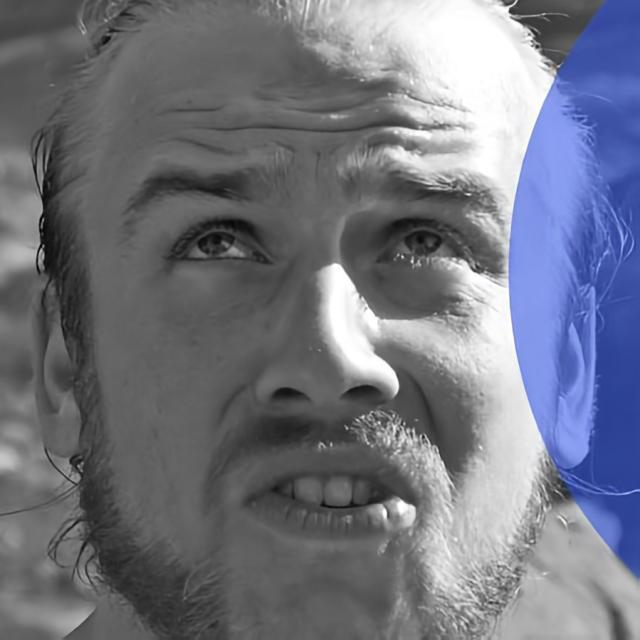disgust: (80, 0, 566, 640)
